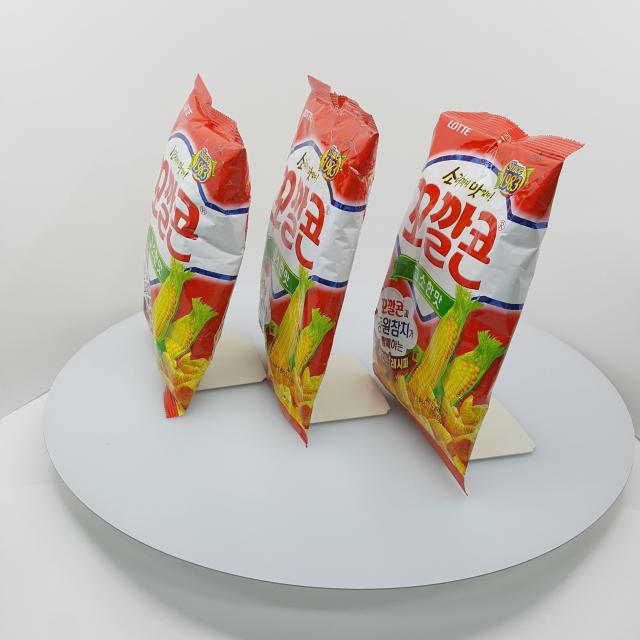-72G: (373, 112, 586, 497), (259, 75, 380, 449), (144, 74, 252, 419)
